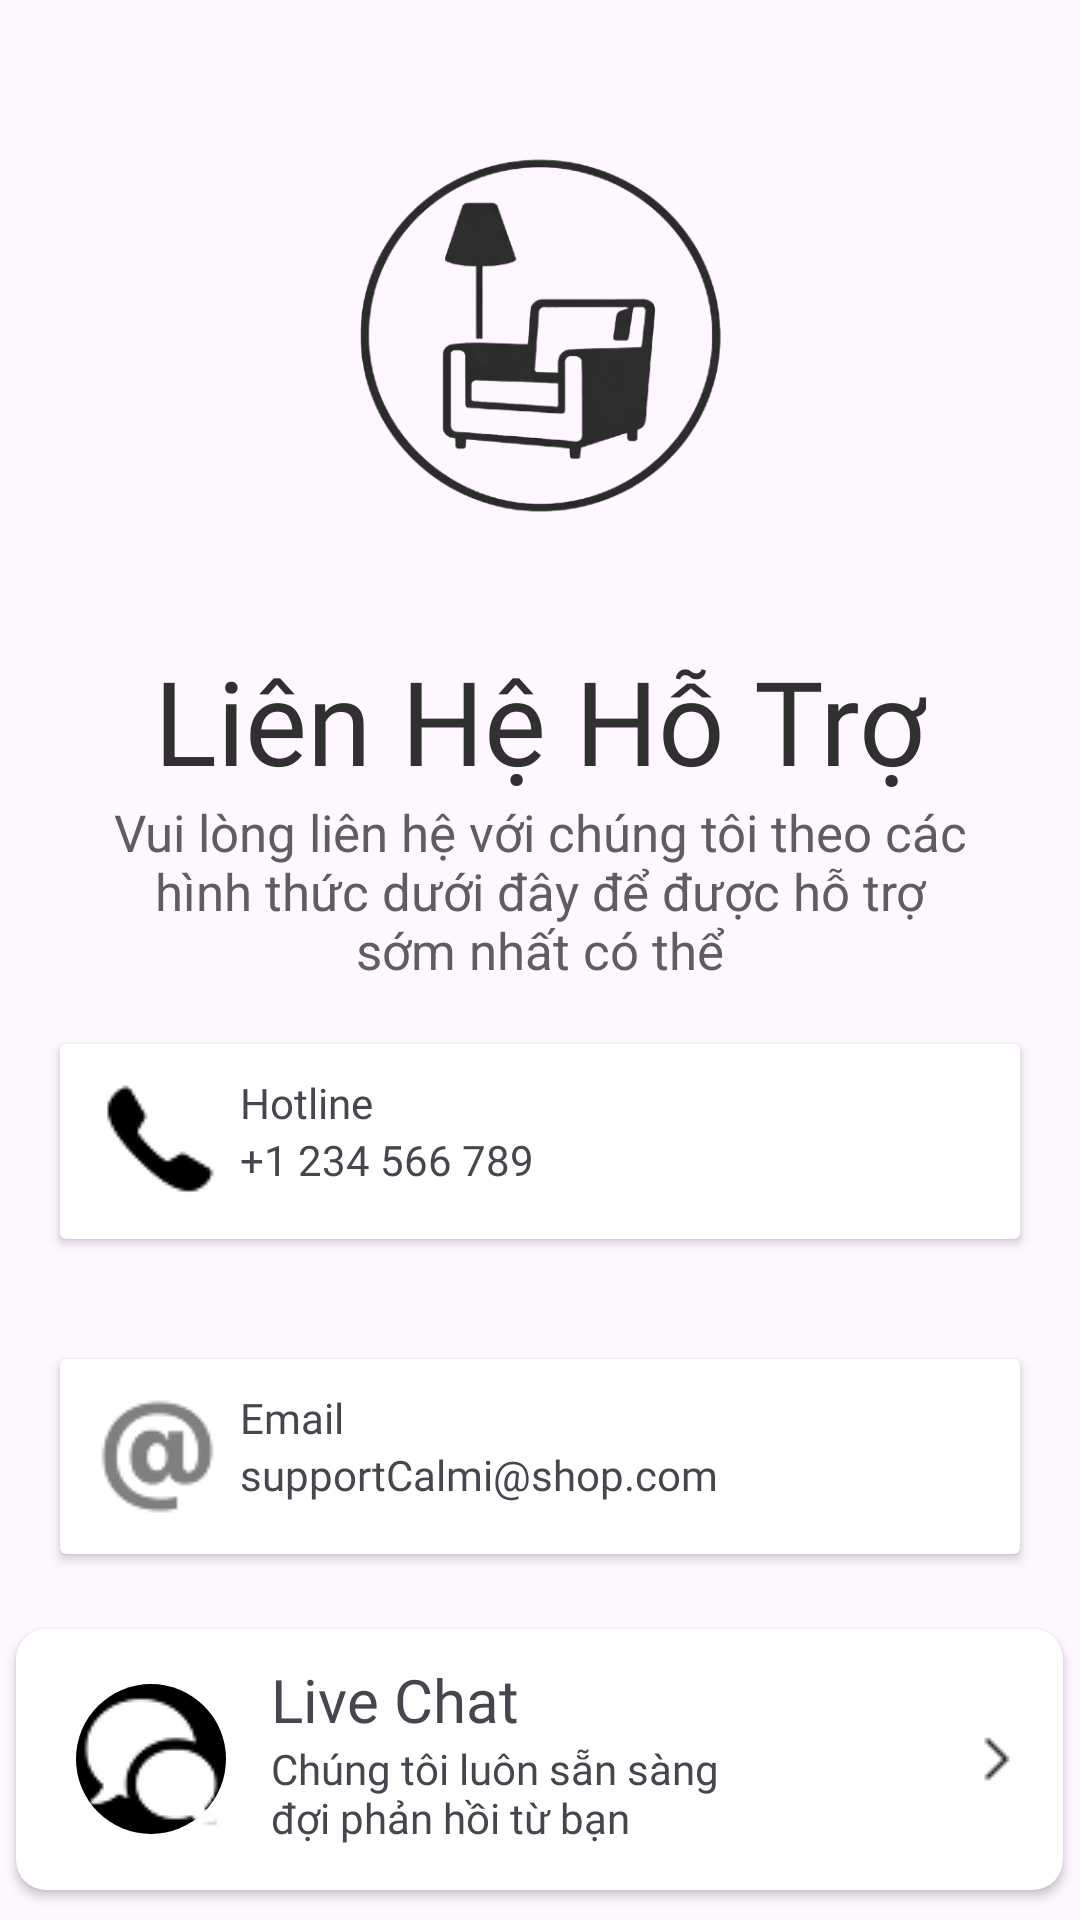

Where icons sit on this 1080px×1920px app screen, as bbox(x1, y1, x2, y2):
phone: bbox(107, 1085, 214, 1192)
right arrrow: bbox(984, 1737, 1010, 1781)
